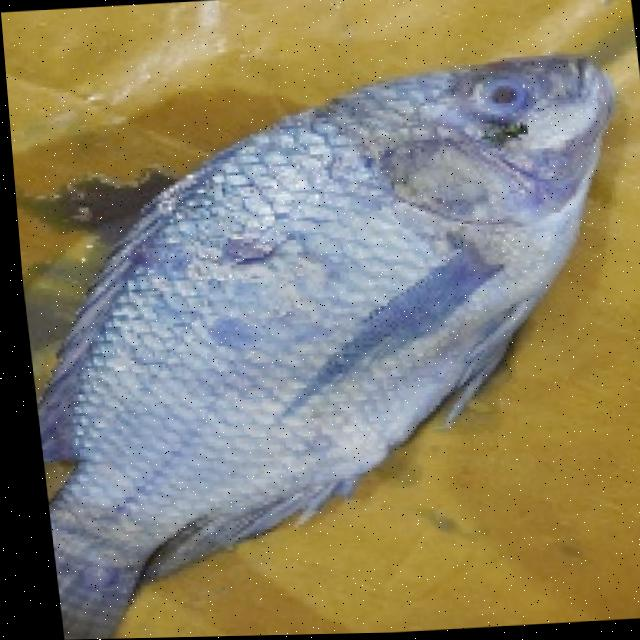Non-Fresh: (8, 37, 640, 569), (450, 65, 549, 160)
